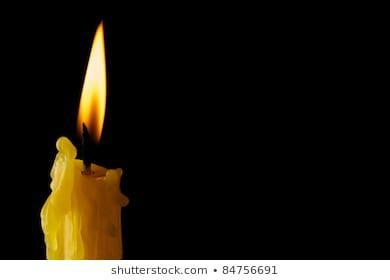fire: (77, 18, 109, 144)
